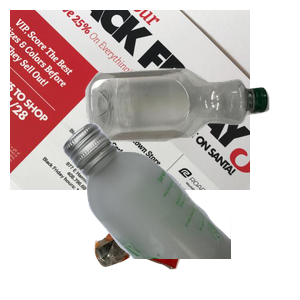glass: (60, 120, 300, 300)
paper: (10, 10, 250, 190)
plastic: (83, 66, 300, 201)
trash: (92, 174, 272, 300)
